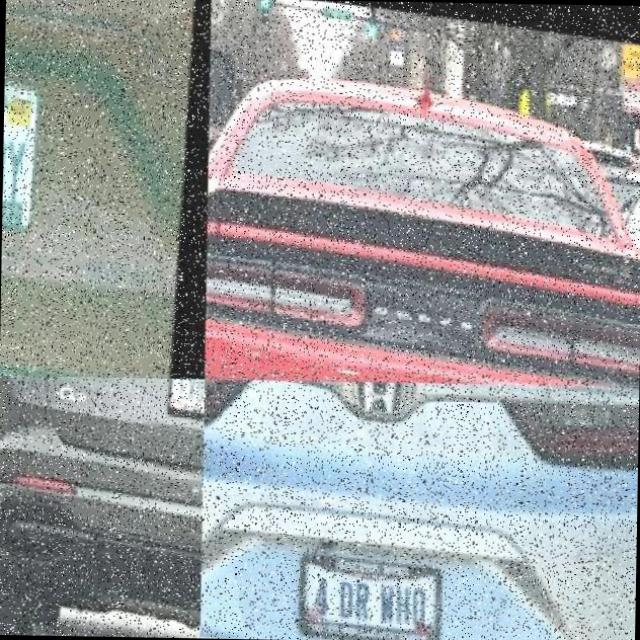LicensePlate: (299, 547, 443, 640), (1, 66, 80, 228), (166, 377, 203, 412)
